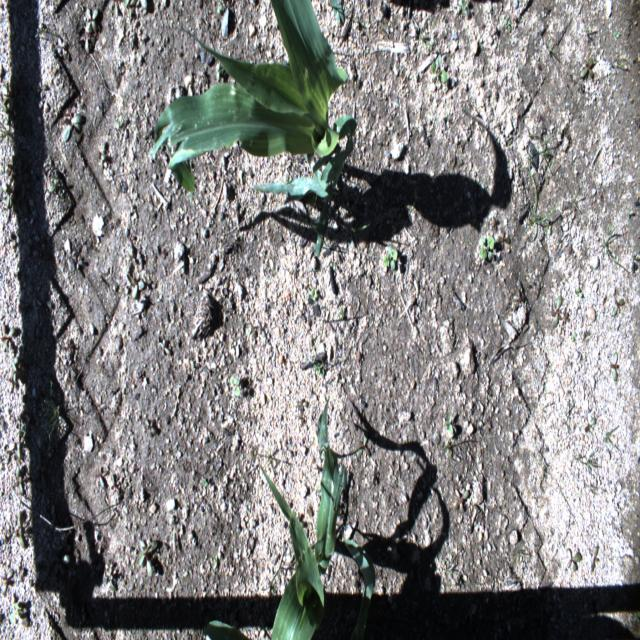crop: (152, 2, 356, 258), (257, 396, 375, 639), (201, 619, 253, 637)
weed: (41, 379, 70, 442), (7, 431, 31, 493), (540, 127, 568, 179), (118, 3, 152, 44), (126, 250, 152, 302), (137, 532, 165, 580), (426, 52, 455, 98), (376, 239, 406, 282), (527, 191, 560, 227), (573, 40, 601, 82), (82, 5, 101, 60), (3, 587, 30, 625), (93, 464, 125, 494), (8, 513, 28, 558), (476, 228, 500, 265), (306, 348, 328, 386), (453, 475, 471, 519), (45, 165, 68, 199), (1, 78, 20, 116), (600, 230, 618, 268), (486, 337, 512, 361), (64, 113, 86, 140), (3, 557, 18, 596), (587, 455, 602, 494), (8, 353, 28, 382), (565, 547, 583, 579), (326, 1, 349, 26), (440, 406, 458, 437), (551, 295, 567, 329), (304, 276, 324, 303), (1, 320, 18, 351), (229, 371, 245, 402), (142, 413, 162, 437), (602, 426, 620, 452), (453, 0, 475, 21), (610, 292, 628, 316), (331, 298, 349, 321), (104, 566, 121, 588), (593, 538, 604, 568), (611, 351, 622, 379), (590, 409, 598, 424)
